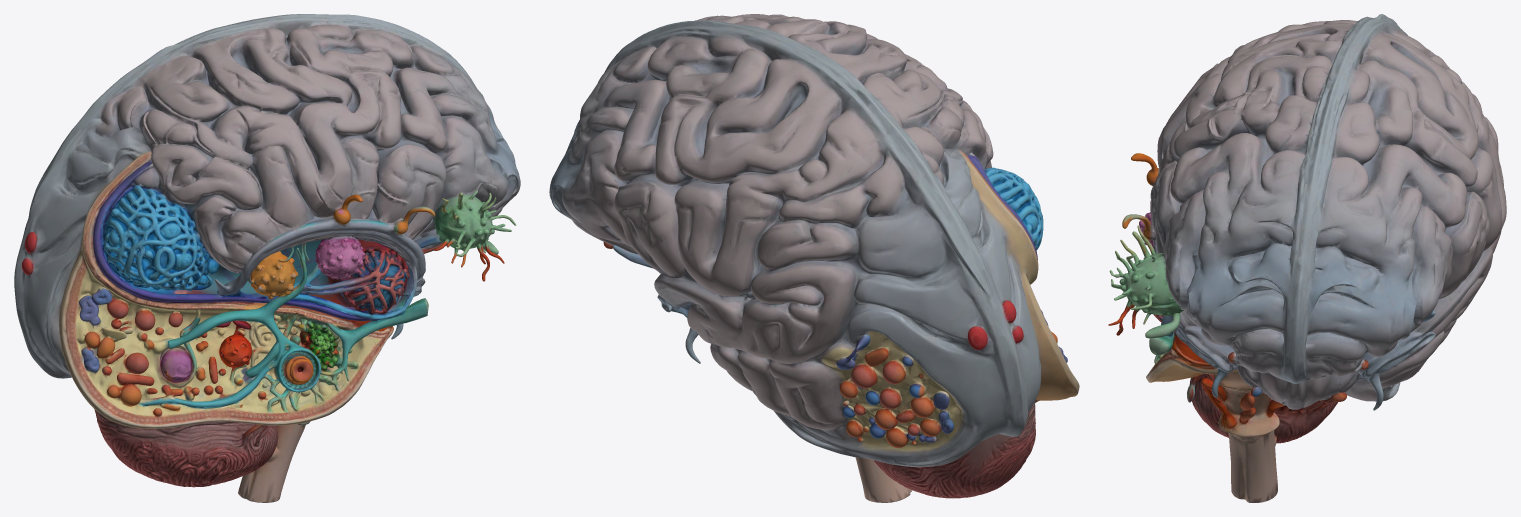
Rendered from brain-v4.glb.
3 renders of one model, left to right at view 1: azimuth 30°, elevation 25°; view 2: azimuth 150°, elevation 25°; view 3: azimuth 270°, elevation 25°, orthographic. The views are drawn at different scales.
Visible parts, largest first — view 1: tripo_node_61c7b62a-d541-43eb-9ce8-bdea9329df4e; view 2: tripo_node_61c7b62a-d541-43eb-9ce8-bdea9329df4e; view 3: tripo_node_61c7b62a-d541-43eb-9ce8-bdea9329df4e.
Part boxes in pixels (x1,y1,x2,y2): tripo_node_61c7b62a-d541-43eb-9ce8-bdea9329df4e: [14, 14, 520, 502]; tripo_node_61c7b62a-d541-43eb-9ce8-bdea9329df4e: [549, 14, 1079, 502]; tripo_node_61c7b62a-d541-43eb-9ce8-bdea9329df4e: [1108, 14, 1506, 502].
Bounding box in the file's own units: 0.9999 × 0.9477 × 0.7145.
Materials: 1 (1 with a texture image).
